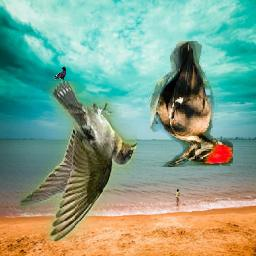Crow: (54, 66, 67, 82)
Swallow: (19, 81, 137, 241)
Woodpecker: (147, 41, 233, 167)
